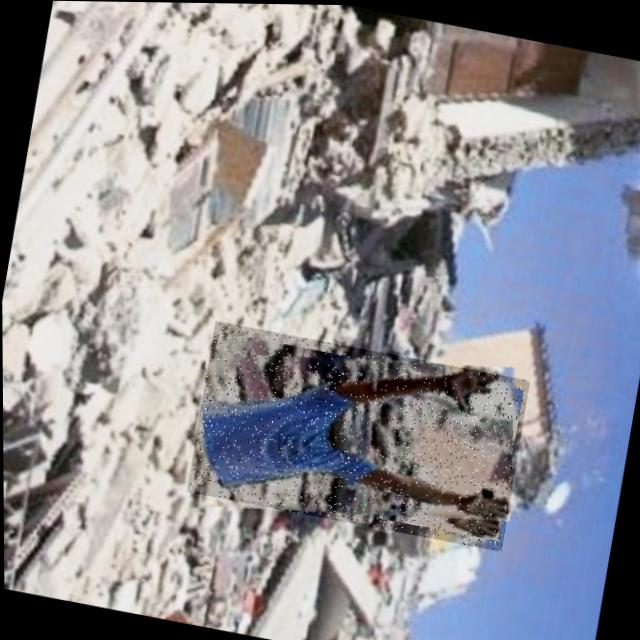Person in Rubble: (184, 319, 529, 550)
